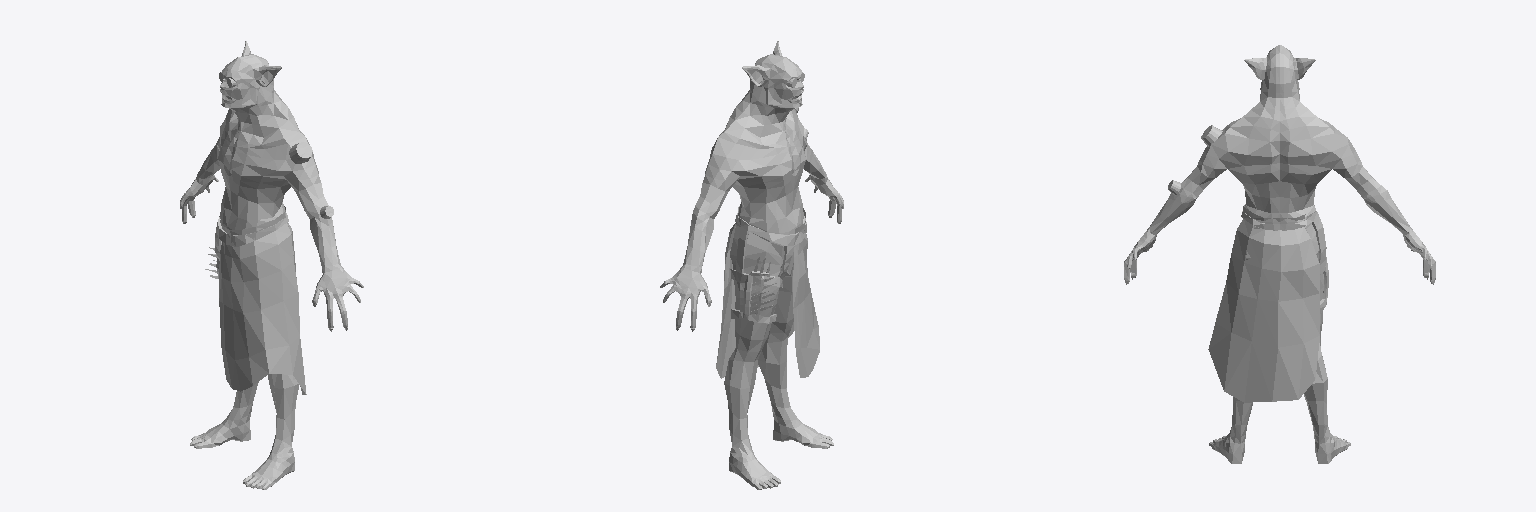
File: Orc2.obj
3 renders of one model, left to right at view 1: azimuth 30°, elevation 25°; view 2: azimuth 150°, elevation 25°; view 3: azimuth 270°, elevation 25°, orthographic.
Parts seen in each view (by area): view 1: gogles; view 2: gogles; view 3: gogles.
Boxes of the visible parts, box(x1,y1,x2,y2) form: gogles: box(180, 41, 363, 489); gogles: box(660, 41, 843, 489); gogles: box(1124, 45, 1435, 463).
Size of the model in its own units: 32.94 by 167 by 117.